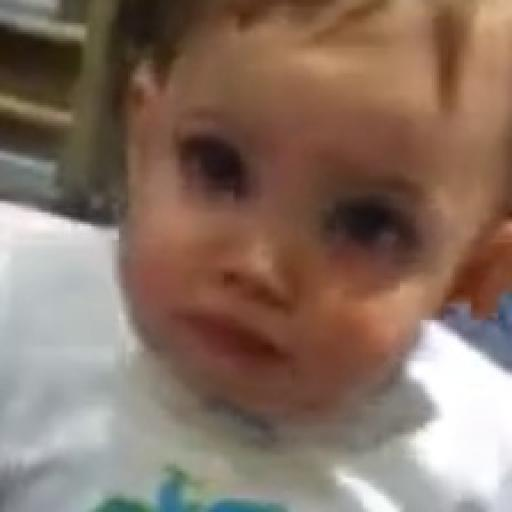Autism: (125, 13, 512, 512)
